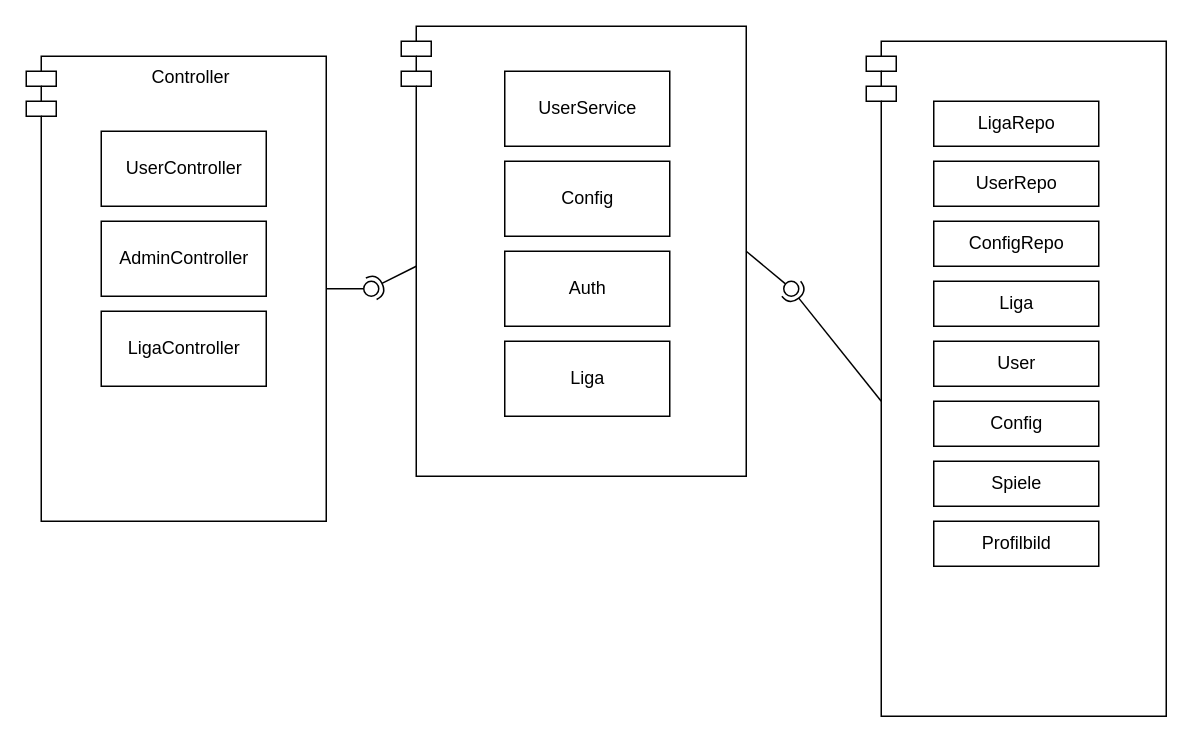
Some shapes in this 1193 by 743 pixel diagram are drawn without their labels. Each missing label, with the box of its shape:
Repository: (865, 40, 1166, 716)
Services: (400, 25, 746, 476)
